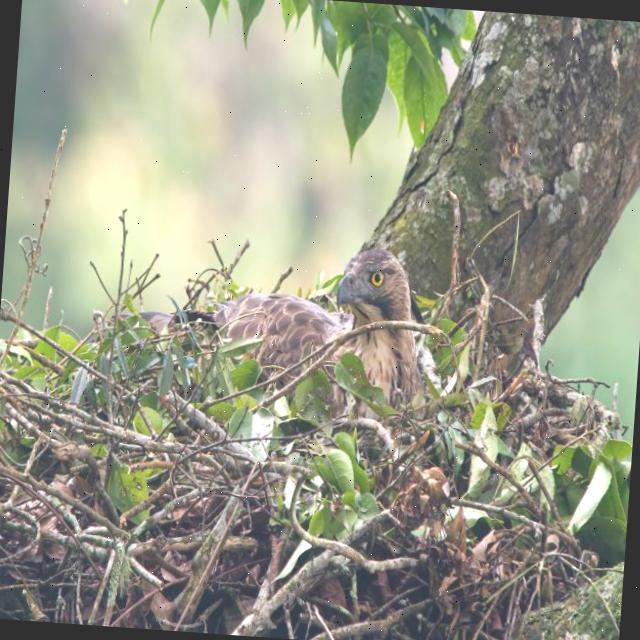Elang Jawa: (79, 207, 441, 443)
